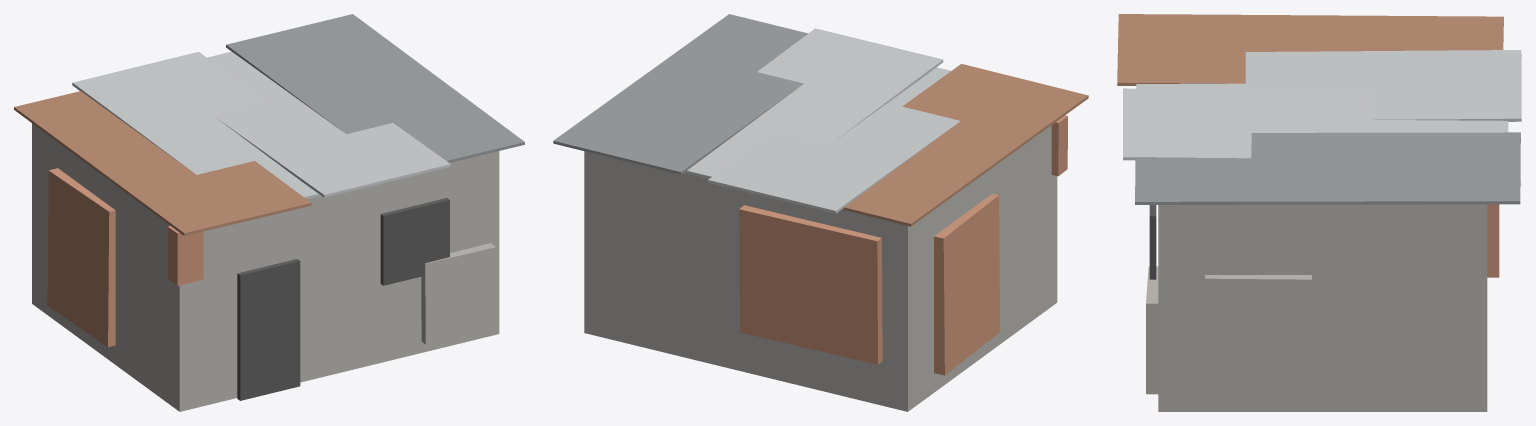
File: casabaja.glb
The picture shows the model from 3 angles, left to right: view 1: azimuth 30°, elevation 25°; view 2: azimuth 150°, elevation 25°; view 3: azimuth 270°, elevation 25°; orthographic projection. The views are drawn at different scales.
Visible parts, largest first — view 1: CasaAustera_Pared_Base, Chapa_Lata_Asimetrica_4, Chapa_Lata_Asimetrica_1, Chapa_Lata_Asimetrica_2, Chapa_Lata_Asimetrica_3, Pared_Asimetrica_Parche_1, CasaAustera_Puerta, Pared_Asimetrica_Parche_4, CasaAustera_Ventana, Pared_Asimetrica_Parche_5; view 2: CasaAustera_Pared_Base, Chapa_Lata_Asimetrica_4, Pared_Asimetrica_Parche_3, Chapa_Lata_Asimetrica_1, Chapa_Lata_Asimetrica_3, Chapa_Lata_Asimetrica_2, Pared_Asimetrica_Parche_1, Pared_Asimetrica_Parche_5; view 3: CasaAustera_Pared_Base, Chapa_Lata_Asimetrica_4, Chapa_Lata_Asimetrica_1, Chapa_Lata_Asimetrica_2, Chapa_Lata_Asimetrica_3, Pared_Asimetrica_Parche_2, Pared_Asimetrica_Parche_4, Pared_Asimetrica_Parche_3, CasaAustera_Ventana.
Part boxes in pixels (x1,y1,x2,y2): CasaAustera_Pared_Base: (32,123,499,411); Chapa_Lata_Asimetrica_4: (226,14,524,162); Chapa_Lata_Asimetrica_1: (14,91,311,235); Chapa_Lata_Asimetrica_2: (72,51,321,199); Chapa_Lata_Asimetrica_3: (207,51,450,197); Pared_Asimetrica_Parche_1: (47,168,115,347); CasaAustera_Puerta: (237,259,300,400); Pared_Asimetrica_Parche_4: (421,243,496,344); CasaAustera_Ventana: (380,198,449,285); Pared_Asimetrica_Parche_5: (167,226,203,285); CasaAustera_Pared_Base: (584,125,1057,411); Chapa_Lata_Asimetrica_4: (553,14,807,174); Pared_Asimetrica_Parche_3: (739,205,882,364); Chapa_Lata_Asimetrica_1: (842,64,1088,226); Chapa_Lata_Asimetrica_3: (684,28,943,178); Chapa_Lata_Asimetrica_2: (707,67,960,213); Pared_Asimetrica_Parche_1: (934,193,1000,375); Pared_Asimetrica_Parche_5: (1051,115,1067,176); CasaAustera_Pared_Base: (1158,204,1487,411); Chapa_Lata_Asimetrica_4: (1135,132,1520,204); Chapa_Lata_Asimetrica_1: (1117,14,1503,85); Chapa_Lata_Asimetrica_2: (1136,50,1521,121); Chapa_Lata_Asimetrica_3: (1123,88,1508,160); Pared_Asimetrica_Parche_2: (1205,275,1311,398); Pared_Asimetrica_Parche_4: (1146,266,1158,394); Pared_Asimetrica_Parche_3: (1487,204,1499,277); CasaAustera_Ventana: (1149,205,1156,279).
Bounding box in the file's own units: 1.05 × 0.5661 × 0.945.
